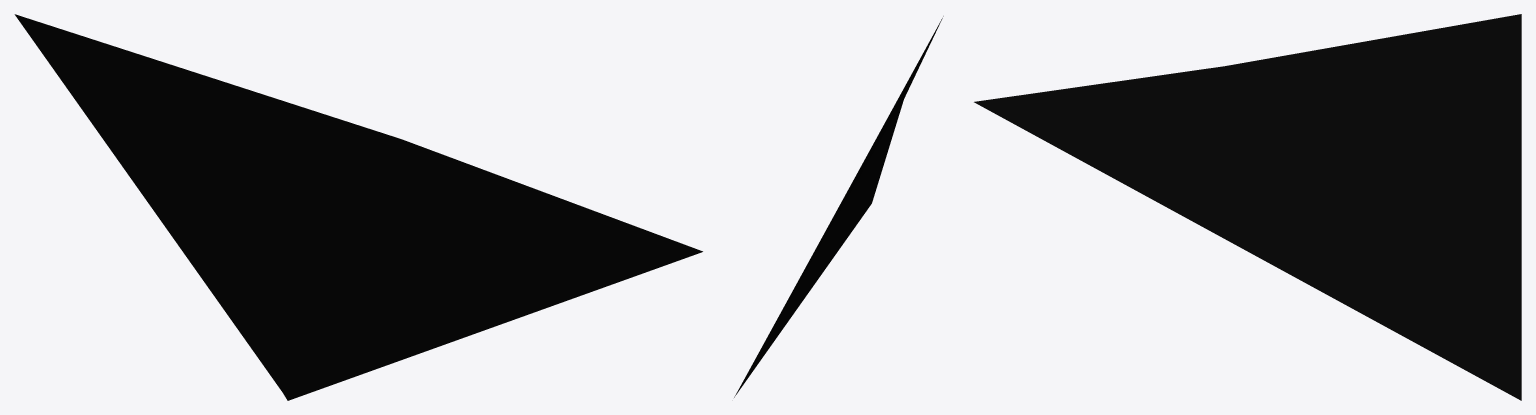
3 renders of one model, left to right at view 1: azimuth 30°, elevation 25°; view 2: azimuth 150°, elevation 25°; view 3: azimuth 270°, elevation 25°, orthographic. The views are drawn at different scales.
Bounding box in the file's own units: 0.8389 × 1.33 × 2.21.
1 material, 1 textured.
